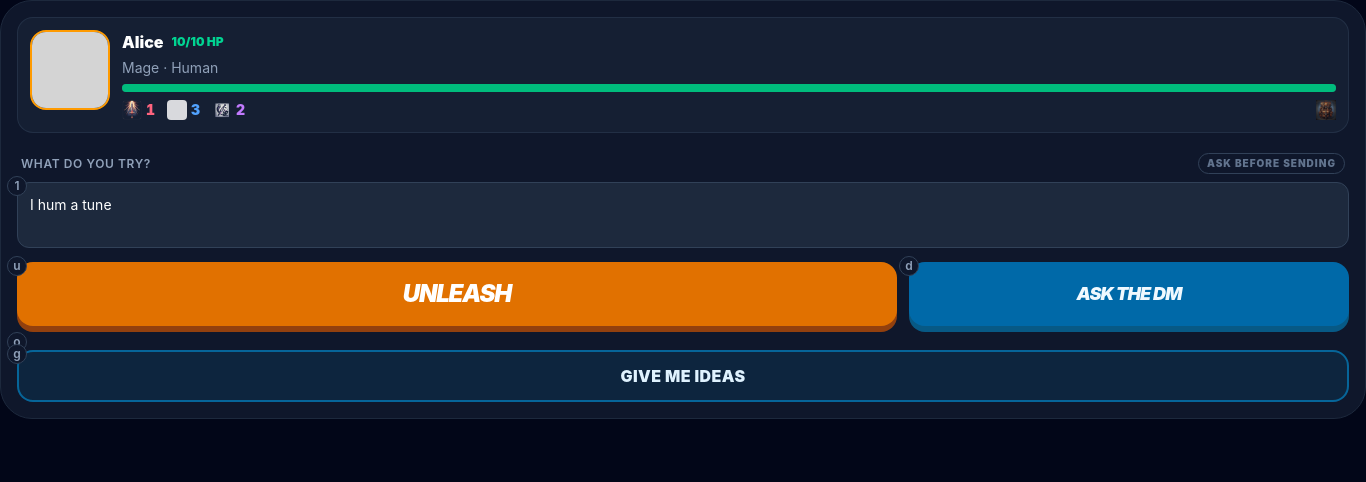
Test: ActionDock ideas on request › shows the reason and a retry when ideas fail, keeping the draft
Click the button "Give me ideas": (683, 376) [17,350,1349,402]
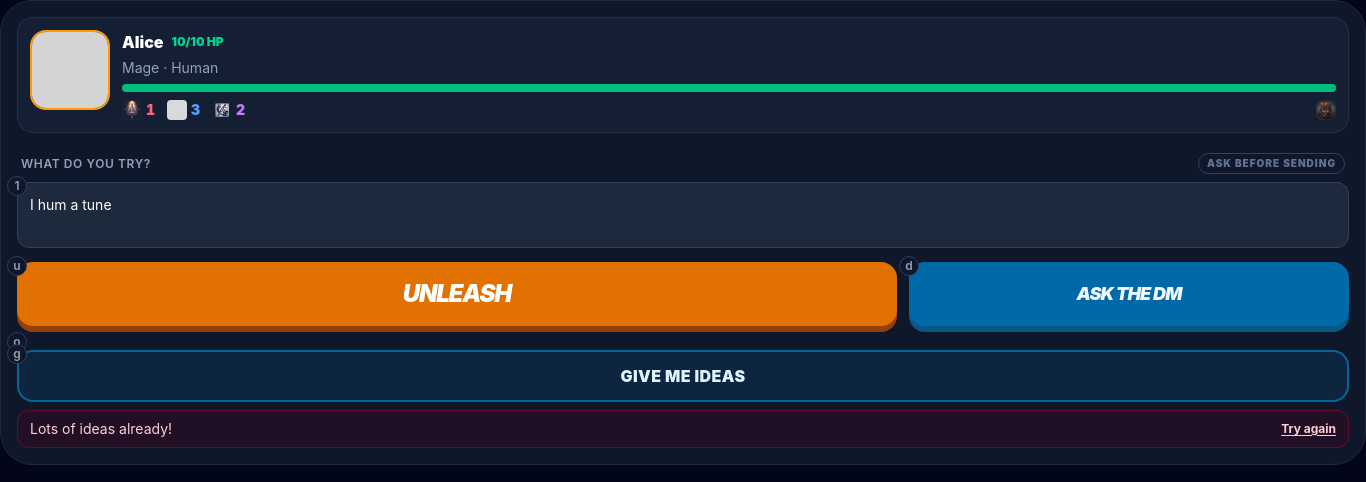
Expected: the text box labelled "What do you try?" holds "I hum a tune", [17,182,1349,248]
Result: the text "Lots of ideas already!" is shown at [30,419,172,439]
Result: the button "Try again" is shown at [1281,421,1336,437]
